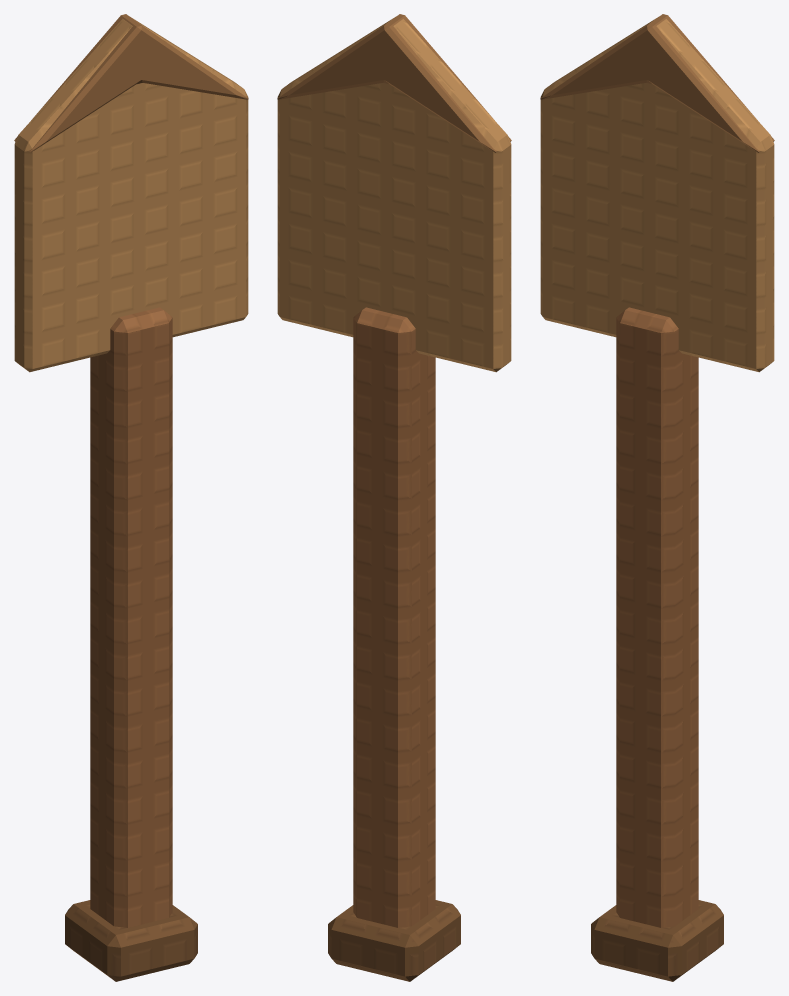
The model's file is outil_02_pelle_en_bois.glb.
3 views of the same model, side by side, from view 1: azimuth 30°, elevation 25°; view 2: azimuth 150°, elevation 25°; view 3: azimuth 330°, elevation 25° (orthographic).
Visible parts, largest first — view 1: outil_02_pelle_en_bois; view 2: outil_02_pelle_en_bois; view 3: outil_02_pelle_en_bois.
Part boxes in pixels (bbox=[...]): outil_02_pelle_en_bois: bbox=[14, 14, 248, 981]; outil_02_pelle_en_bois: bbox=[277, 14, 511, 981]; outil_02_pelle_en_bois: bbox=[540, 14, 774, 981].
Bounding box in the file's own units: 1.3 × 5.2 × 0.527.
Materials: 1 (1 with a texture image).
